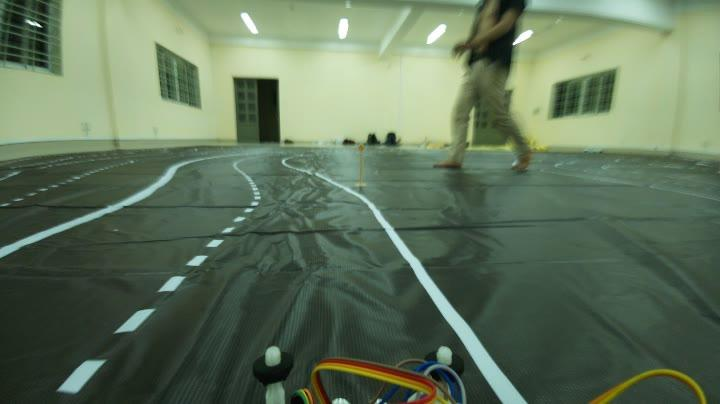priority: (354, 140, 368, 156)
